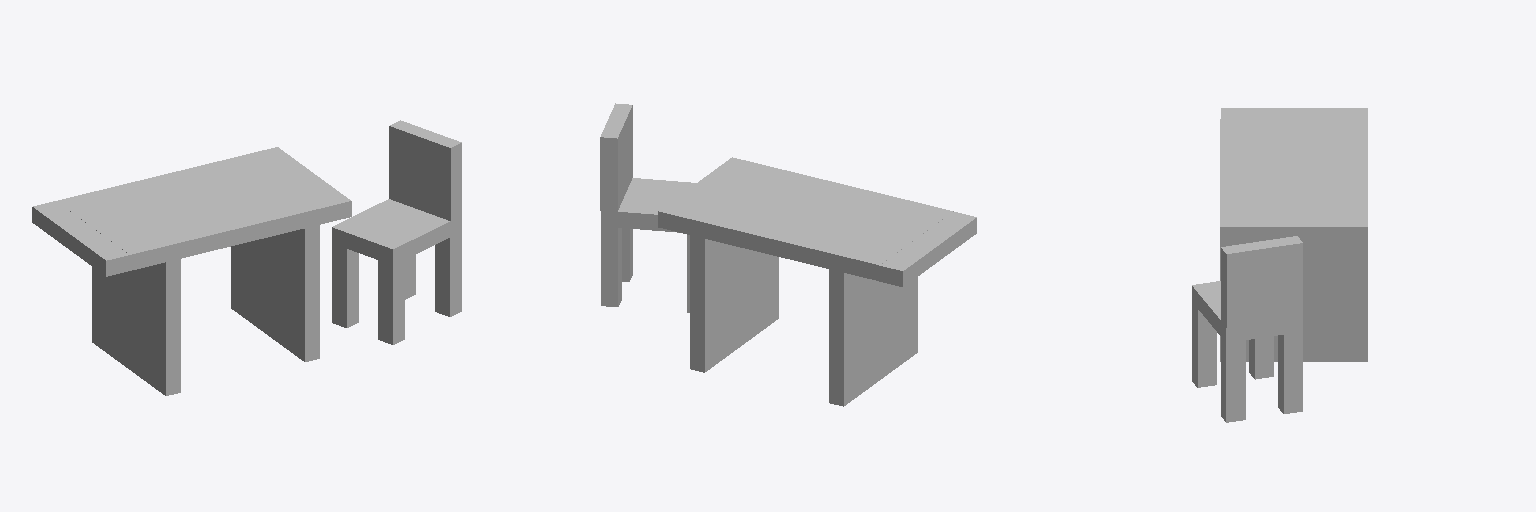
Rendered from sala.obj.
The picture shows the model from 3 angles: view 1: azimuth 30°, elevation 25°; view 2: azimuth 150°, elevation 25°; view 3: azimuth 270°, elevation 25°; orthographic projection.
Visible parts, largest first — view 1: Cube; view 2: Cube; view 3: Cube.
Boxes of the visible parts, box(x1,y1,x2,y2) form: Cube: box(32, 120, 461, 395); Cube: box(600, 103, 976, 406); Cube: box(1192, 108, 1367, 422).
Bounding box in the file's own units: 5.6 × 2.66 × 2.39.